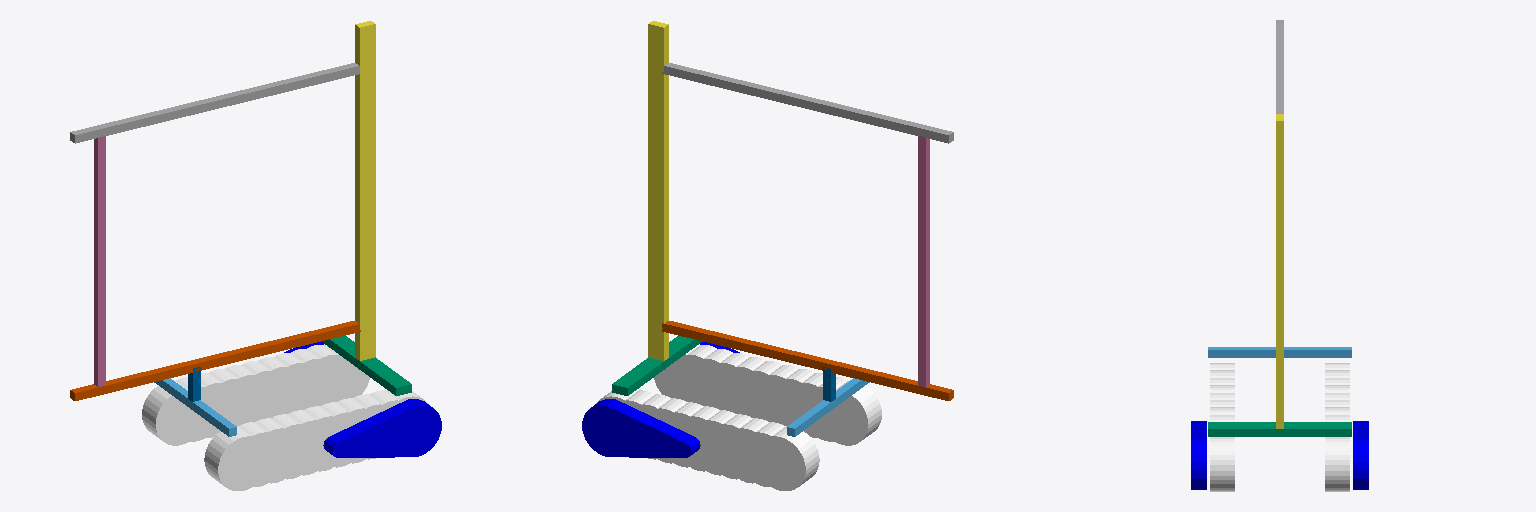
--- What the picture shows (computed from the rendered views, not written in the file) ---
3 views of the same robot in one strip: view 1: azimuth 30°, elevation 25°; view 2: azimuth 150°, elevation 25°; view 3: azimuth 270°, elevation 25° (orthographic).
Robot: gvrbot_updated — 32 links, 31 joints (23 continuous, 8 fixed); root link base_link; default pose: all joints at 0.
Links seen in each view (by area): view 1: front_staff, LF_flipper_main, top_bar, bottom_bar, back_staff, L1, R1, 1020_base, L4, R6, L2, R4 (+14 smaller); view 2: front_staff, RF_flipper_main, top_bar, bottom_bar, back_staff, R1, L1, R2, 1020_base, R3, L4, R6 (+14 smaller); view 3: front_staff, 1020_base, 1010_base, L11, R11, LF_flipper_main, RF_flipper_main, top_bar.
Link boxes in pixels (x1,y1,x2,y2): front_staff: (355,21,375,360); LF_flipper_main: (323,399,441,457); top_bar: (70,63,359,143); bottom_bar: (70,321,360,400); back_staff: (94,136,105,386); L1: (204,426,269,490); R1: (142,381,205,445); 1020_base: (321,336,411,395); L4: (267,414,317,479); R6: (238,361,288,421); L2: (234,422,285,486); R4: (207,369,255,432); front_staff: (648,21,668,360); RF_flipper_main: (582,399,700,457); top_bar: (662,63,953,143); bottom_bar: (662,321,953,400); back_staff: (918,136,929,386); R1: (755,426,819,490); L1: (818,381,881,445); R2: (738,422,789,486); 1020_base: (612,336,702,395); R3: (722,418,772,483); L4: (768,369,816,432); R6: (676,406,722,471); front_staff: (1276,114,1283,428); 1020_base: (1208,422,1351,436); 1010_base: (1208,347,1351,357); L11: (1210,437,1234,491); R11: (1325,437,1349,491); LF_flipper_main: (1191,421,1206,489); RF_flipper_main: (1353,421,1368,489); top_bar: (1276,20,1283,113).
Size in the robot's own frame: 1.03 by 0.5328 by 1.22 metres.
Meshes: 2 distinct files referenced, 2 mesh visuals loaded (1 binary STL); not drawn: 1 (reference not matched to a file when rendering).

The robot description file, URDF, robot "gvrbot_updated":
<?xml version="1.0" ?>
<!-- =================================================================================== -->
<!-- |    This document was autogenerated by xacro from urdf/tracked.xacro               | -->
<!-- |    EDITING THIS FILE BY HAND IS NOT RECOMMENDED                                 | -->
<!-- =================================================================================== -->
<robot name="gvrbot_updated" xmlns:xacro="http://www.ros.org/wiki/xacro">
  <!-- <xacro:include filename="$(find pexod_description)/urdf/pexod_control.xacro" /> -->
  <!-- MATERIALS -->
  <material name="Blue">
    <color rgba="0 0 1 1"/>
  </material>
  <material name="Red">
    <color rgba="1 0 0 1"/>
  </material>
  <material name="Green">
    <color rgba="0 1 0 1"/>
  </material>
  <material name="Yellow">
    <color rgba="1 1 0 1"/>
  </material>
  <material name="Orange">
    <color rgba="1 0.5 0 1"/>
  </material>
  <material name="LightGrey">
    <color rgba="0.6 0.6 0.6 1.0"/>
  </material>
  <material name="White">
    <color rgba="1 1 1 1"/>
  </material>

  <!-- END OF MATERIALS -->
  <!-- XACRO MACROS FOR VISUALS AND COLLISIONS -->
  <!-- END OF XACRO MACROS -->

  <!-- TORSO -->
  <link name="base_link">
    <!--
    <visual>
      <origin rpy="0 0 0" xyz="0 0 0"/>
      <geometry>
        <box size="0.588 0.254 0.06"/>
      </geometry>
      <material name="Black"/>
    </visual>
    -->
    
    <visual>
      <origin rpy="0 0 3.14159" xyz="0 0 0"/>
      <geometry>
        <mesh filename="Base_Centered_Stripped.obj" scale="1.0 1.0 1.0" />
      </geometry>
    </visual>
    
    <collision>
      <origin rpy="0 0 0" xyz="0 0 0"/>
      <geometry>
        <box size="0.588 0.254 0.06"/>
      </geometry>
    </collision>

    <inertial>
      <!-- CENTER OF MASS -->
      <origin rpy="0 0 0" xyz="0.01847 0.0292 -0.007"/>
      <mass value="16.4"/>
      <!-- moments of inertia around the COM in the output frame of reference --> 
      <!-- must negate the products of inertia from CAD output (see wiki.ros.org/urdf/XML/link for details)-->
      <inertia ixx="0.267" ixy="0.008646" ixz="-0.0140668" iyy="0.4712" iyz="0.00285" izz="0.668"/>
    </inertial>
  </link>
  <!-- LINKS/JOINTS -->

  <!-- WHEEELS-->

  <!-- Left Track -->

  <joint name="base_to_L1_wheel" type="continuous">
        <parent link="base_link"/>
        <child link="L1"/> 
        <axis xyz="0 1 0"/>
        <!-- Divide total wheel mass (0.685 kg/track) / num_wheel (11) -->
        <!-- Add 1/2 wheel thickness + 7 mm for the y offset-->
        <!-- Add the (685 mm) track length/2 - wheel radius for the maximal x offset-->
        <!-- Subtract the position of the wheel base above ground (39.5 mm) from wheel radius for the z offset-->
        <origin xyz="-0.2605 -0.1721 0.0125"/>
  </joint>

  <link name="L1">
      <contact>
        <stiffness value="30000"/>
        <damping value="0"/>
      </contact>
      <visual> 
          <geometry> 
              <cylinder length="0.0762" radius="0.082"/>
          </geometry>
          <origin rpy="1.57075 0 0"/>
          <material name="White"/>
      </visual>
      <collision> 
            <geometry> 
              <cylinder length="0.0762" radius="0.082"/>
          </geometry>
          <origin rpy="1.57075 0 0"/>
      </collision> 
      <inertial> 
          <origin rpy="1.57075 0 0"/>
          <mass value="0.12455"/>
          <inertia ixx="0.0002693" ixy="0" ixz="0" iyy="0.0002693" iyz="0" izz="0.0004187"/>
      </inertial> 
  </link> 

  <joint name="base_to_L2_wheel" type="continuous">
        <parent link="base_link"/>
        <child link="L2"/> 
        <axis xyz="0 1 0"/>
        <origin xyz="-0.2084 -0.1721 0.0125"/>
  </joint>

  <link name="L2">
      <contact>
        <stiffness value="30000"/>
        <damping value="0"/>
      </contact>
      <visual> 
          <geometry> 
              <cylinder length="0.0762" radius="0.082"/>
          </geometry>
          <origin rpy="1.57075 0 0"/>
          <material name="White"/>
      </visual>
      <collision> 
            <geometry> 
              <cylinder length="0.0762" radius="0.082"/>
          </geometry>
          <origin rpy="1.57075 0 0"/>
      </collision> 
      <inertial> 
          <origin rpy="1.57075 0 0"/>
          <mass value="0.12455"/>
          <inertia ixx="0.0002693" ixy="0" ixz="0" iyy="0.0002693" iyz="0" izz="0.0004187"/>
      </inertial> 
  </link> 

  <joint name="base_to_L3_wheel" type="continuous">
        <parent link="base_link"/>
        <child link="L3"/> 
        <axis xyz="0 1 0"/>
        <origin xyz="-0.1563 -0.1721 0.0125"/>
  </joint>

  <link name="L3">
      <contact>
        <stiffness value="30000"/>
        <damping value="0"/>
      </contact>
      <visual> 
          <geometry> 
              <cylinder length="0.0762" radius="0.082"/>
          </geometry>
          <origin rpy="1.57075 0 0"/>
          <material name="White"/>
      </visual>
      <collision> 
            <geometry> 
              <cylinder length="0.0762" radius="0.082"/>
          </geometry>
          <origin rpy="1.57075 0 0"/>
      </collision> 
      <inertial> 
          <origin rpy="1.57075 0 0"/>
          <mass value="0.12455"/>
          <inertia ixx="0.0002693" ixy="0" ixz="0" iyy="0.0002693" iyz="0" izz="0.0004187"/>
      </inertial> 
  </link> 
  
  <joint name="base_to_L4_wheel" type="continuous">
        <parent link="base_link"/>
        <child link="L4"/> 
        <axis xyz="0 1 0"/>
        <origin xyz="-0.1042 -0.1721 0.0125"/>
  </joint>

  <link name="L4">
      <contact>
        <stiffness value="30000"/>
        <damping value="0"/>
      </contact>
      <visual> 
          <geometry> 
              <cylinder length="0.0762" radius="0.082"/>
          </geometry>
          <origin rpy="1.57075 0 0"/>
          <material name="White"/>
      </visual>
      <collision> 
            <geometry> 
              <cylinder length="0.0762" radius="0.082"/>
          </geometry>
          <origin rpy="1.57075 0 0"/>
      </collision> 
      <inertial> 
          <origin rpy="1.57075 0 0"/>
          <mass value="0.12455"/>
          <inertia ixx="0.0002693" ixy="0" ixz="0" iyy="0.0002693" iyz="0" izz="0.0004187"/>
      </inertial> 
  </link> 

  <joint name="base_to_L5_wheel" type="continuous">
        <parent link="base_link"/>
        <child link="L5"/> 
        <axis xyz="0 1 0"/>
        <origin xyz="-0.0521 -0.1721 0.0125"/>
  </joint>

  <link name="L5">
      <contact>
        <stiffness value="30000"/>
        <damping value="0"/>
      </contact>
      <visual> 
          <geometry> 
              <cylinder length="0.0762" radius="0.082"/>
          </geometry>
          <origin rpy="1.57075 0 0"/>
          <material name="White"/>
      </visual>
      <collision> 
            <geometry> 
              <cylinder length="0.0762" radius="0.082"/>
          </geometry>
          <origin rpy="1.57075 0 0"/>
      </collision> 
      <inertial> 
          <origin rpy="1.57075 0 0"/>
          <mass value="0.12455"/>
          <inertia ixx="0.0002693" ixy="0" ixz="0" iyy="0.0002693" iyz="0" izz="0.0004187"/>
      </inertial> 
  </link> 

  <joint name="base_to_L6_wheel" type="continuous">
        <parent link="base_link"/>
        <child link="L6"/> 
        <axis xyz="0 1 0"/>
        <origin xyz="0 -0.1721 0.0125"/>
  </joint>

  <link name="L6">
      <contact>
        <stiffness value="30000"/>
        <damping value="0"/>
      </contact>
      <visual> 
          <geometry> 
              <cylinder length="0.0762" radius="0.082"/>
          </geometry>
          <origin rpy="1.57075 0 0"/>
          <material name="White"/>
      </visual>
      <collision> 
            <geometry> 
              <cylinder length="0.0762" radius="0.082"/>
          </geometry>
          <origin rpy="1.57075 0 0"/>
      </collision> 
      <inertial> 
          <origin rpy="1.57075 0 0"/>
          <mass value="0.12455"/>
          <inertia ixx="0.0002693" ixy="0" ixz="0" iyy="0.0002693" iyz="0" izz="0.0004187"/>
      </inertial> 
  </link> 

  <joint name="base_to_L7_wheel" type="continuous">
        <parent link="base_link"/>
        <child link="L7"/> 
        <axis xyz="0 1 0"/>
        <origin xyz="0.0521 -0.1721 0.0125"/>
  </joint>

  <link name="L7">
      <contact>
        <stiffness value="30000"/>
        <damping value="0"/>
      </contact>
      <visual> 
          <geometry> 
              <cylinder length="0.0762" radius="0.082"/>
          </geometry>
          <origin rpy="1.57075 0 0"/>
          <material name="White"/>
      </visual>
      <collision> 
            <geometry> 
              <cylinder length="0.0762" radius="0.082"/>
          </geometry>
          <origin rpy="1.57075 0 0"/>
      </collision> 
      <inertial> 
          <origin rpy="1.57075 0 0"/>
          <mass value="0.12455"/>
          <inertia ixx="0.0002693" ixy="0" ixz="0" iyy="0.0002693" iyz="0" izz="0.0004187"/>
      </inertial> 
  </link> 

  <joint name="base_to_L8_wheel" type="continuous">
        <parent link="base_link"/>
        <child link="L8"/> 
        <axis xyz="0 1 0"/>
        <origin xyz="0.1042 -0.1721 0.0125"/>
  </joint>

  <link name="L8">
      <contact>
        <stiffness value="30000"/>
        <damping value="0"/>
      </contact>
      <visual> 
          <geometry> 
              <cylinder length="0.0762" radius="0.082"/>
          </geometry>
          <origin rpy="1.57075 0 0"/>
          <material name="White"/>
      </visual>
      <collision> 
            <geometry> 
              <cylinder length="0.0762" radius="0.082"/>
          </geometry>
          <origin rpy="1.57075 0 0"/>
      </collision> 
      <inertial> 
          <origin rpy="1.57075 0 0"/>
          <mass value="0.12455"/>
          <inertia ixx="0.0002693" ixy="0" ixz="0" iyy="0.0002693" iyz="0" izz="0.0004187"/>
      </inertial> 
  </link> 

  <joint name="base_to_L9_wheel" type="continuous">
        <parent link="base_link"/>
        <child link="L9"/> 
        <axis xyz="0 1 0"/>
        <origin xyz="0.1563 -0.1721 0.0125"/>
  </joint>

  <link name="L9">
      <contact>
        <stiffness value="30000"/>
        <damping value="0"/>
      </contact>
      <visual> 
          <geometry> 
              <cylinder length="0.0762" radius="0.082"/>
          </geometry>
          <origin rpy="1.57075 0 0"/>
          <material name="White"/>
      </visual>
      <collision> 
            <geometry> 
              <cylinder length="0.0762" radius="0.082"/>
          </geometry>
          <origin rpy="1.57075 0 0"/>
      </collision> 
      <inertial> 
          <origin rpy="1.57075 0 0"/>
          <mass value="0.12455"/>
          <inertia ixx="0.0002693" ixy="0" ixz="0" iyy="0.0002693" iyz="0" izz="0.0004187"/>
      </inertial> 
  </link> 

  <joint name="base_to_L10_wheel" type="continuous">
        <parent link="base_link"/>
        <child link="L10"/> 
        <axis xyz="0 1 0"/>
        <origin xyz="0.2084 -0.1721 0.0125"/>
  </joint>

  <link name="L10">
      <contact>
        <stiffness value="30000"/>
        <damping value="0"/>
      </contact>
      <visual> 
          <geometry> 
              <cylinder length="0.0762" radius="0.082"/>
          </geometry>
          <origin rpy="1.57075 0 0"/>
          <material name="White"/>
      </visual>
      <collision> 
            <geometry> 
              <cylinder length="0.0762" radius="0.082"/>
          </geometry>
          <origin rpy="1.57075 0 0"/>
      </collision> 
      <inertial> 
          <origin rpy="1.57075 0 0"/>
          <mass value="0.12455"/>
          <inertia ixx="0.0002693" ixy="0" ixz="0" iyy="0.0002693" iyz="0" izz="0.0004187"/>
      </inertial> 
  </link> 

  <joint name="base_to_L11_wheel" type="continuous">
      <parent link="base_link"/>
      <child link="L11"/> 
      <axis xyz="0 1 0"/>
      <!-- Add 1/2 wheel thickness + 7 mm for the y offset-->
      <!-- Add the (685 mm) track length/2 - wheel radius for the maximal x offset-->
      <!-- Subtract the position of the wheel base above ground (39.5 mm) from wheel radius for the z offset-->
      <origin xyz="0.2605 -0.1721 0.0125"/>
  </joint>

  <link name="L11">
      <contact>
        <stiffness value="30000"/>
        <damping value="0"/>
      </contact>
      <visual> 
          <geometry> 
              <cylinder length="0.0762" radius="0.082"/>
          </geometry>
          <origin rpy="1.57075 0 0"/>
          <material name="White"/>
      </visual>
      <collision> 
            <geometry> 
              <cylinder length="0.0762" radius="0.082"/>
          </geometry>
          <origin rpy="1.57075 0 0"/>
      </collision> 
      <inertial> 
          <origin rpy="1.57075 0 0"/>
          <mass value="0.12455"/>
          <inertia ixx="0.0002693" ixy="0" ixz="0" iyy="0.0002693" iyz="0" izz="0.0004187"/>
      </inertial> 
  </link> 
  
  <!-- Right Track -->

  <joint name="base_to_R1_wheel" type="continuous">
        <parent link="base_link"/>
        <child link="R1"/> 
        <axis xyz="0 1 0"/>
        <!-- Add 1/2 wheel thickness + 7 mm for the y offset-->
        <!-- Add the (685 mm) track length/2 - wheel radius for the maximal x offset-->
        <!-- Subtract the position of the wheel base above ground (39.5 mm) from wheel radius for the z offset-->
        <origin xyz="-0.2605 0.1721 0.0125"/>
  </joint>

  <link name="R1">
      <contact>
        <stiffness value="30000"/>
        <damping value="0"/>
      </contact>
      <visual> 
          <geometry> 
              <cylinder length="0.0762" radius="0.082"/>
          </geometry>
          <origin rpy="1.57075 0 0"/>
          <material name="White"/>
      </visual>
      <collision> 
            <geometry> 
              <cylinder length="0.0762" radius="0.082"/>
          </geometry>
          <origin rpy="1.57075 0 0"/>
      </collision> 
      <inertial> 
          <origin rpy="1.57075 0 0"/>
          <mass value="0.12455"/>
          <inertia ixx="0.0002693" ixy="0" ixz="0" iyy="0.0002693" iyz="0" izz="0.0004187"/>
      </inertial> 
  </link>
  
  <joint name="base_to_R2_wheel" type="continuous">
        <parent link="base_link"/>
        <child link="R2"/> 
        <axis xyz="0 1 0"/>
        <origin xyz="-0.2084 0.1721 0.0125"/>
  </joint>

  <link name="R2">
      <contact>
        <stiffness value="30000"/>
        <damping value="0"/>
      </contact>

      <visual> 
          <geometry> 
              <cylinder length="0.0762" radius="0.082"/>
          </geometry>
          <origin rpy="1.57075 0 0"/>
          <material name="White"/>
      </visual>
      <collision> 
            <geometry> 
              <cylinder length="0.0762" radius="0.082"/>
          </geometry>
          <origin rpy="1.57075 0 0"/>
      </collision> 
      <inertial> 
          <origin rpy="1.57075 0 0"/>
          <mass value="0.12455"/>
          <inertia ixx="0.0002693" ixy="0" ixz="0" iyy="0.0002693" iyz="0" izz="0.0004187"/>
      </inertial> 
  </link> 

  <joint name="base_to_R3_wheel" type="continuous">
        <parent link="base_link"/>
        <child link="R3"/> 
        <axis xyz="0 1 0"/>
        <origin xyz="-0.1563 0.1721 0.0125"/>
  </joint>

  <link name="R3">
      <contact>
        <stiffness value="30000"/>
        <damping value="0"/>
      </contact>
      <visual> 
          <geometry> 
              <cylinder length="0.0762" radius="0.082"/>
          </geometry>
          <origin rpy="1.57075 0 0"/>
          <material name="White"/>
      </visual>
      <collision> 
            <geometry> 
              <cylinder length="0.0762" radius="0.082"/>
          </geometry>
          <origin rpy="1.57075 0 0"/>
      </collision> 
      <inertial> 
          <origin rpy="1.57075 0 0"/>
          <mass value="0.12455"/>
          <inertia ixx="0.0002693" ixy="0" ixz="0" iyy="0.0002693" iyz="0" izz="0.0004187"/>
      </inertial> 
  </link> 
  
  <joint name="base_to_R4_wheel" type="continuous">
        <parent link="base_link"/>
        <child link="R4"/> 
        <axis xyz="0 1 0"/>
        <origin xyz="-0.1042 0.1721 0.0125"/>
  </joint>

  <link name="R4">
      <contact>
        <stiffness value="30000"/>
        <damping value="0"/>
      </contact>
      <visual> 
          <geometry> 
              <cylinder length="0.0762" radius="0.082"/>
          </geometry>
          <origin rpy="1.57075 0 0"/>
          <material name="White"/>
      </visual>
      <collision> 
            <geometry> 
              <cylinder length="0.0762" radius="0.082"/>
          </geometry>
          <origin rpy="1.57075 0 0"/>
      </collision> 
      <inertial> 
          <origin rpy="1.57075 0 0"/>
          <mass value="0.12455"/>
          <inertia ixx="0.0002693" ixy="0" ixz="0" iyy="0.0002693" iyz="0" izz="0.0004187"/>
      </inertial> 
  </link> 

  <joint name="base_to_R5_wheel" type="continuous">
        <parent link="base_link"/>
        <child link="R5"/> 
        <axis xyz="0 1 0"/>
        <origin xyz="-0.0521 0.1721 0.0125"/>
  </joint>

  <link name="R5">
      <contact>
        <stiffness value="30000"/>
        <damping value="0"/>
      </contact>
      <visual> 
          <geometry> 
              <cylinder length="0.0762" radius="0.082"/>
          </geometry>
          <origin rpy="1.57075 0 0"/>
          <material name="White"/>
      </visual>
      <collision> 
            <geometry> 
              <cylinder length="0.0762" radius="0.082"/>
          </geometry>
          <origin rpy="1.57075 0 0"/>
      </collision> 
      <inertial> 
          <origin rpy="1.57075 0 0"/>
          <mass value="0.12455"/>
          <inertia ixx="0.0002693" ixy="0" ixz="0" iyy="0.0002693" iyz="0" izz="0.0004187"/>
      </inertial> 
  </link> 

  <joint name="base_to_R6_wheel" type="continuous">
        <parent link="base_link"/>
        <child link="R6"/> 
        <axis xyz="0 1 0"/>
        <origin xyz="0 0.1721 0.0125"/>
  </joint>

  <link name="R6">
      <contact>
        <stiffness value="30000"/>
        <damping value="0"/>
      </contact>
      <visual> 
          <geometry> 
              <cylinder length="0.0762" radius="0.082"/>
          </geometry>
          <origin rpy="1.57075 0 0"/>
          <material name="White"/>
      </visual>
      <collision> 
            <geometry> 
              <cylinder length="0.0762" radius="0.082"/>
          </geometry>
          <origin rpy="1.57075 0 0"/>
      </collision> 
      <inertial> 
          <origin rpy="1.57075 0 0"/>
          <mass value="0.12455"/>
          <inertia ixx="0.0002693" ixy="0" ixz="0" iyy="0.0002693" iyz="0" izz="0.0004187"/>
      </inertial> 
  </link> 

  <joint name="base_to_R7_wheel" type="continuous">
        <parent link="base_link"/>
        <child link="R7"/> 
        <axis xyz="0 1 0"/>
        <origin xyz="0.0521 0.1721 0.0125"/>
  </joint>

  <link name="R7">
      <contact>
        <stiffness value="30000"/>
        <damping value="0"/>
      </contact>
      <visual> 
          <geometry> 
              <cylinder length="0.0762" radius="0.082"/>
          </geometry>
          <origin rpy="1.57075 0 0"/>
          <material name="White"/>
      </visual>
      <collision> 
            <geometry> 
              <cylinder length="0.0762" radius="0.082"/>
          </geometry>
          <origin rpy="1.57075 0 0"/>
      </collision> 
      <inertial> 
          <origin rpy="1.57075 0 0"/>
          <mass value="0.12455"/>
          <inertia ixx="0.0002693" ixy="0" ixz="0" iyy="0.0002693" iyz="0" izz="0.0004187"/>
      </inertial> 
  </link> 

  <joint name="base_to_R8_wheel" type="continuous">
        <parent link="base_link"/>
        <child link="R8"/> 
        <axis xyz="0 1 0"/>
        <origin xyz="0.1042 0.1721 0.0125"/>
  </joint>

  <link name="R8">
      <contact>
        <stiffness value="30000"/>
        <damping value="0"/>
      </contact>
      <visual> 
          <geometry> 
              <cylinder length="0.0762" radius="0.082"/>
          </geometry>
          <origin rpy="1.57075 0 0"/>
          <material name="White"/>
      </visual>
      <collision> 
            <geometry> 
              <cylinder length="0.0762" radius="0.082"/>
          </geometry>
          <origin rpy="1.57075 0 0"/>
      </collision> 
      <inertial> 
          <origin rpy="1.57075 0 0"/>
          <mass value="0.12455"/>
          <inertia ixx="0.0002693" ixy="0" ixz="0" iyy="0.0002693" iyz="0" izz="0.0004187"/>
      </inertial> 
  </link> 

  <joint name="base_to_R9_wheel" type="continuous">
        <parent link="base_link"/>
        <child link="R9"/> 
        <axis xyz="0 1 0"/>
        <origin xyz="0.1563 0.1721 0.0125"/>
  </joint>

  <link name="R9">
     <contact>
        <stiffness value="30000"/>
        <damping value="0"/>
      </contact>
      <visual> 
          <geometry> 
              <cylinder length="0.0762" radius="0.082"/>
          </geometry>
          <origin rpy="1.57075 0 0"/>
          <material name="White"/>
      </visual>
      <collision> 
            <geometry> 
              <cylinder length="0.0762" radius="0.082"/>
          </geometry>
          <origin rpy="1.57075 0 0"/>
      </collision> 
      <inertial> 
          <origin rpy="1.57075 0 0"/>
          <mass value="0.12455"/>
          <inertia ixx="0.0002693" ixy="0" ixz="0" iyy="0.0002693" iyz="0" izz="0.0004187"/>
      </inertial> 
  </link> 

  <joint name="base_to_R10_wheel" type="continuous">
        <parent link="base_link"/>
        <child link="R10"/> 
        <axis xyz="0 1 0"/>
        <origin xyz="0.2084 0.1721 0.0125"/>
  </joint>

  <link name="R10">
      <contact>
        <stiffness value="30000"/>
        <damping value="0"/>
      </contact>
      <visual> 
          <geometry> 
              <cylinder length="0.0762" radius="0.082"/>
          </geometry>
          <origin rpy="1.57075 0 0"/>
          <material name="White"/>
      </visual>
      <collision> 
            <geometry> 
              <cylinder length="0.0762" radius="0.082"/>
          </geometry>
          <origin rpy="1.57075 0 0"/>
      </collision> 
      <inertial> 
          <origin rpy="1.57075 0 0"/>
          <mass value="0.12455"/>
          <inertia ixx="0.0002693" ixy="0" ixz="0" iyy="0.0002693" iyz="0" izz="0.0004187"/>
      </inertial> 
  </link> 

  <joint name="base_to_R11_wheel" type="continuous">
      <parent link="base_link"/>
      <child link="R11"/> 
      <axis xyz="0 1 0"/>
      <!-- Add 1/2 wheel thickness + 7 mm for the y offset-->
      <!-- Add the (685 mm) track length/2 - wheel radius for the maximal x offset-->
      <!-- Subtract the position of the wheel base above ground (39.5 mm) from wheel radius for the z offset-->
      <origin xyz="0.2605 0.1721 0.0125"/>
  </joint>

  <link name="R11">
      <contact>
        <stiffness value="30000"/>
        <damping value="0"/>
      </contact>
      <visual> 
          <geometry> 
              <cylinder length="0.0762" radius="0.082"/>
          </geometry>
          <origin rpy="1.57075 0 0"/>
          <material name="White"/>
      </visual>
      <collision> 
            <geometry> 
              <cylinder length="0.0762" radius="0.082"/>
          </geometry>
          <origin rpy="1.57075 0 0"/>
      </collision> 
      <inertial> 
          <origin rpy="1.57075 0 0"/>
          <mass value="0.12455"/>
          <inertia ixx="0.0002693" ixy="0" ixz="0" iyy="0.0002693" iyz="0" izz="0.0004187"/>
      </inertial> 
  </link> 
    
  <!-- FLIPPERS -->

  <!-- FRONT LEFT FLIPPER-->

  <joint name="base_to_flippers" type="continuous">
    <parent link="base_link"/>
    <child link="LF_flipper_main"/>
    <!--<limit effort="1.0" velocity="4"/>-->
    <!--Add the wheel thickness and the half width of the flipper and 7 mm to get the y offset-->
    <origin rpy="0 -3.14 0" xyz="0.2605 -0.2418 0.0125"/>
    <axis xyz="0 1 0"/>
    <dynamics damping="0.0"/>
  </joint>

  <link name="LF_flipper_main">
    <contact>
      <lateral_friction value="0.1"/>
      <stiffness value="30000"/>
      <damping value="0"/>
    </contact>
    <visual>
      <geometry>
        <mesh filename="flipper.stl" scale="0.001 0.001 0.001"/>
      </geometry>
      <origin rpy="0 0 1.57075" xyz="0 0 0"/>
      <material name="Blue" />
    </visual>
    <collision>
      <geometry>
        <mesh filename="flipper.stl" scale="0.001 0.001 0.001"/>
      </geometry>
      <origin rpy="0 0 1.57075" xyz="0 0 0"/>
    </collision>
    <inertial>
        <mass value="1.026" />
        <origin rpy="0 0 0" xyz="0.03 0 0 " />
        <inertia ixx="0.000926" ixy="0" ixz="0" iyy="0.001459" iyz="0" izz="0.00825" />
      </inertial>
  </link>
 
  <!-- FRONT RIGHT FLIPPER-->

  <joint name="LF_to_RF_flipper" type="fixed">
      <parent link="LF_flipper_main"/>
      <child link="RF_flipper_main"/>
      <!--<limit effort="1.0" velocity="4"/>-->
      <origin xyz="0 0.4836 0"/>
      <axis xyz="0 1 0"/>
      <dynamics damping="0.0"/>
  </joint>

  <link name="RF_flipper_main">
    <contact>
      <lateral_friction value="0.1"/>
      <stiffness value="30000"/>
      <damping value="0"/>
    </contact>
    <visual>
      <geometry>
        <mesh filename="flipper.stl" scale="0.001 0.001 0.001"/>
      </geometry>
      <origin rpy="0 0 1.57075" xyz="0 0 0"/>
      <material name="Blue" />
    </visual>
    <collision>
      <geometry>
        <mesh filename="flipper.stl" scale="0.001 0.001 0.001"/>
      </geometry>
      <origin rpy="0 0 1.57075" xyz="0 0 0"/>
    </collision>
    <inertial>
        <mass value="1.026" />
        <origin rpy="0 0 0" xyz="0.03 0 0" />
        <inertia ixx="0.000926" ixy="0" ixz="0" iyy="0.001459" iyz="0" izz="0.00825" />
      </inertial>
  </link>

  <!-- PAYLOAD FRAME-->
  
  <joint name="base_to_1010_base" type="fixed">
      <parent link="base_link"/>
      <child link="1010_base"/>
      <origin xyz="-0.2973 0 0.12"/>
  </joint>

  <link name="1010_base">
    <visual>
      <origin rpy="1.57075 0 0" xyz="0 0 0"/>
      <geometry>
        <box size="0.0254 0.0254 0.430"/>
      </geometry>
      <material name="Black"/>
    </visual>

    <inertial>
      <!-- CENTER OF MASS -->
      <origin rpy="1.57075 0 0" xyz="0 0 0"/>
      <mass value="0.325"/>
      <!-- moments of inertia around the COM in the output frame of reference --> 
      <!-- must negate the products of inertia from CAD output (see wiki.ros.org/urdf/XML/link for details)-->
      <inertia ixx="0.005" ixy="0" ixz="0.0" iyy="0.005" iyz="0.0" izz="0.000035"/>
    </inertial>
  </link>

  <joint name="base_to_1020_base" type="fixed">
      <parent link="base_link"/>
      <child link="1020_base"/>
      <origin xyz="0.248 0 0.12"/>
  </joint>

  <link name="1020_base">
    <visual>
      <origin rpy="1.57075 0 0" xyz="0 0 0"/>
      <geometry>
        <box size="0.0508 0.0254 0.430"/>
      </geometry>
      <material name="Black"/>
    </visual>

    <inertial>
      <!-- CENTER OF MASS -->
      <origin rpy="1.57075 0 0" xyz="0 0 0"/>
      <mass value="0.589"/>
      <!-- moments of inertia around the COM in the output frame of reference --> 
      <!-- must negate the products of inertia from CAD output (see wiki.ros.org/urdf/XML/link for details)-->
      <inertia ixx="0.00921" ixy="0" ixz="0.0" iyy="0.00912" iyz="0.0" izz="0.000158"/>
    </inertial>
  </link>

  <joint name="1020_base_to_front_staff" type="fixed">
      <parent link="1020_base"/>
      <child link="front_staff"/>
      <origin xyz="0 0 0.5207"/>
  </joint>

  <link name="front_staff">
    <visual>
      <origin rpy="0 0 0" xyz="0 0 0"/>
      <geometry>
        <box size="0.0508 0.0254 1.016"/>
      </geometry>
      <material name="Black"/>
    </visual>

    <inertial>
      <!-- CENTER OF MASS -->
      <origin rpy="0 0 0" xyz="0 0 0"/>
      <mass value="1.3937"/>
      <!-- moments of inertia around the COM in the output frame of reference --> 
      <!-- must negate the products of inertia from CAD output (see wiki.ros.org/urdf/XML/link for details)-->
      <inertia ixx="0.1199" ixy="0" ixz="0.0" iyy="0.1201" iyz="0.0" izz="0.000374"/>
    </inertial>
  </link>

  <joint name="1010_base_to_little_piece" type="fixed">
      <parent link="1010_base"/>
      <child link="little_piece"/>
      <origin xyz="0 0 0.0635"/>
  </joint>

  <link name="little_piece">
    <visual>
      <origin rpy="0 0 0" xyz="0 0 0"/>
      <geometry>
        <box size="0.0254 0.0254 0.1016"/>
      </geometry>
      <material name="Black"/>
    </visual>

    <inertial>
      <!-- CENTER OF MASS -->
      <origin rpy="0 0 0" xyz="0 0 0"/>
      <mass value="0.0769"/>
      <!-- moments of inertia around the COM in the output frame of reference --> 
      <!-- must negate the products of inertia from CAD output (see wiki.ros.org/urdf/XML/link for details)-->
      <inertia ixx="0.00000703" ixy="0" ixz="0.0" iyy="0.00000703" iyz="0.0" izz="0.000000827"/>
    </inertial>
  </link>

  <joint name="front_staff_to_bottom_bar" type="fixed">
      <parent link="front_staff"/>
      <child link="bottom_bar"/>
      <origin xyz="-0.4761 0 -0.4064"/>
  </joint>

  <link name="bottom_bar">
    <visual>
      <origin rpy="0 1.57075 0" xyz="0 0 0"/>
      <geometry>
        <box size="0.0254 0.0254 0.914"/>
      </geometry>
      <material name="Black"/>
    </visual>

    <inertial>
      <!-- CENTER OF MASS -->
      <origin rpy="0 0 0" xyz="0 0 0"/>
      <mass value="0.692"/>
      <!-- moments of inertia around the COM in the output frame of reference --> 
      <!-- must negate the products of inertia from CAD output (see wiki.ros.org/urdf/XML/link for details)-->
      <inertia ixx="0.0482" ixy="0" ixz="0.0" iyy="0.0482" iyz="0.0" izz="0.0000744"/>
    </inertial>
  </link>

  <joint name="bottom_bar_to_back_staff" type="fixed">
      <parent link="bottom_bar"/>
      <child link="back_staff"/>
      <origin xyz="-0.3693 0 0.3937"/>
  </joint>

  <link name="back_staff">
    <visual>
      <origin rpy="0 0 0" xyz="0 0 0"/>
      <geometry>
        <box size="0.0254 0.0254 0.762"/>
      </geometry>
      <material name="Black"/>
    </visual>bottom_bar

    <inertial>
      <!-- CENTER OF MASS -->
      <origin rpy="0 0 0" xyz="0 0 0"/>
      <mass value="0.577"/>
      <!-- moments of inertia around the COM in the output frame of reference --> 
      <!-- must negate the products of inertia from CAD output (see wiki.ros.org/urdf/XML/link for details)-->
      <inertia ixx="0.02795" ixy="0" ixz="0.0" iyy="0.02795" iyz="0.0" izz="0.000062"/>
    </inertial>
  </link>

  <joint name="bottom_bar" type="fixed">
      <parent link="bottom_bar"/>
      <child link="top_bar"/>
      <origin xyz="0 0 0.7854"/>
  </joint>

  <link name="top_bar">
    <visual>
      <origin rpy="0 1.57075 0" xyz="0 0 0"/>
      <geometry>
        <box size="0.0254 0.0254 0.914"/>
      </geometry>
      <material name="Black"/>
    </visual>

    <inertial>
      <!-- CENTER OF MASS -->
      <origin rpy="0 0 0" xyz="0 0 0"/>
      <mass value="0.692"/>
      <!-- moments of inertia around the COM in the output frame of reference --> 
      <!-- must negate the products of inertia from CAD output (see wiki.ros.org/urdf/XML/link for details)-->
      <inertia ixx="0.0482" ixy="0" ixz="0.0" iyy="0.0482" iyz="0.0" izz="0.0000744"/>
    </inertial>
  </link>
  
  <!-- PAYLOAD_PLACEHOLDER -->
 
</robot>
